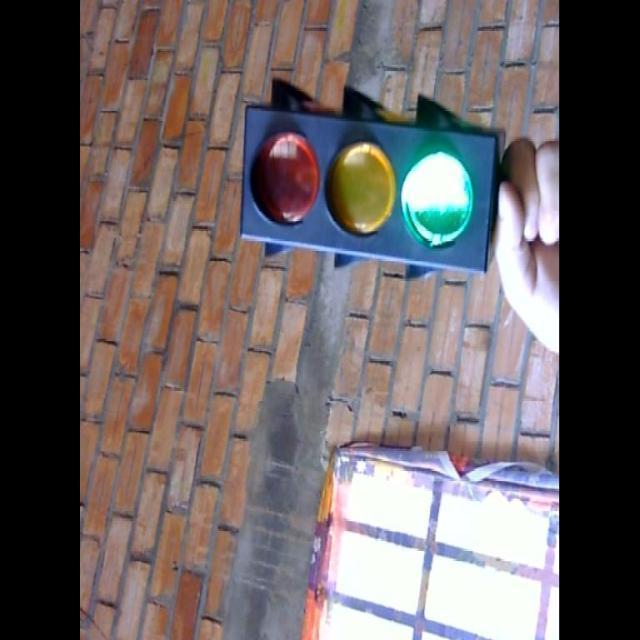green_light: (239, 79, 497, 269)
